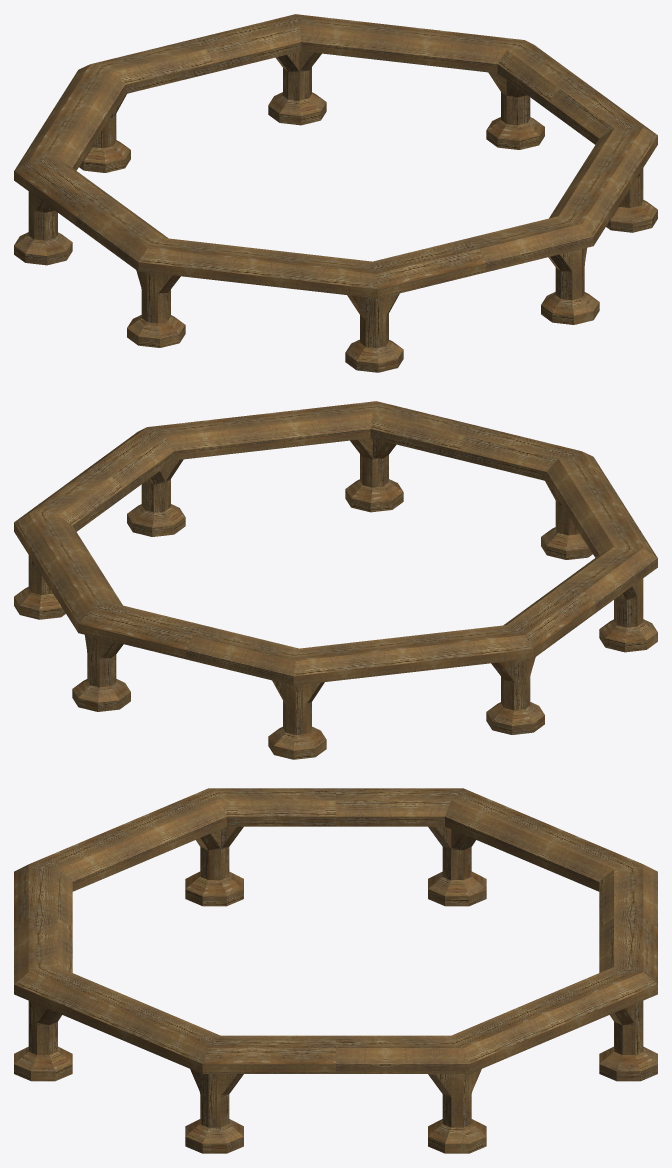
Rendered from LibraryMainRailing.glb.
The picture shows the model from 3 angles, top to bottom: view 1: azimuth 30°, elevation 25°; view 2: azimuth 150°, elevation 25°; view 3: azimuth 270°, elevation 25°; orthographic projection. The views are drawn at different scales.
Parts seen in each view (by area): view 1: object1.051, object1.054, object1.052, object1.053; view 2: object1.053, object1.052, object1.054, object1.051; view 3: object1.052, object1.054, object1.051, object1.053.
Part boxes in pixels (bbox=[...]): object1.051: bbox=[76, 199, 485, 372]; object1.054: bbox=[193, 14, 593, 149]; object1.052: bbox=[466, 83, 657, 324]; object1.053: bbox=[14, 39, 213, 265]; object1.053: bbox=[186, 586, 595, 759]; object1.052: bbox=[78, 401, 478, 536]; object1.054: bbox=[14, 470, 205, 711]; object1.051: bbox=[458, 426, 657, 652]; object1.052: bbox=[14, 918, 335, 1153]; object1.054: bbox=[336, 918, 657, 1153]; object1.051: bbox=[14, 788, 335, 927]; object1.053: bbox=[336, 788, 657, 927].
Size of the model in its own units: 2.2 by 0.375 by 2.2.
4 materials, 4 textured.
